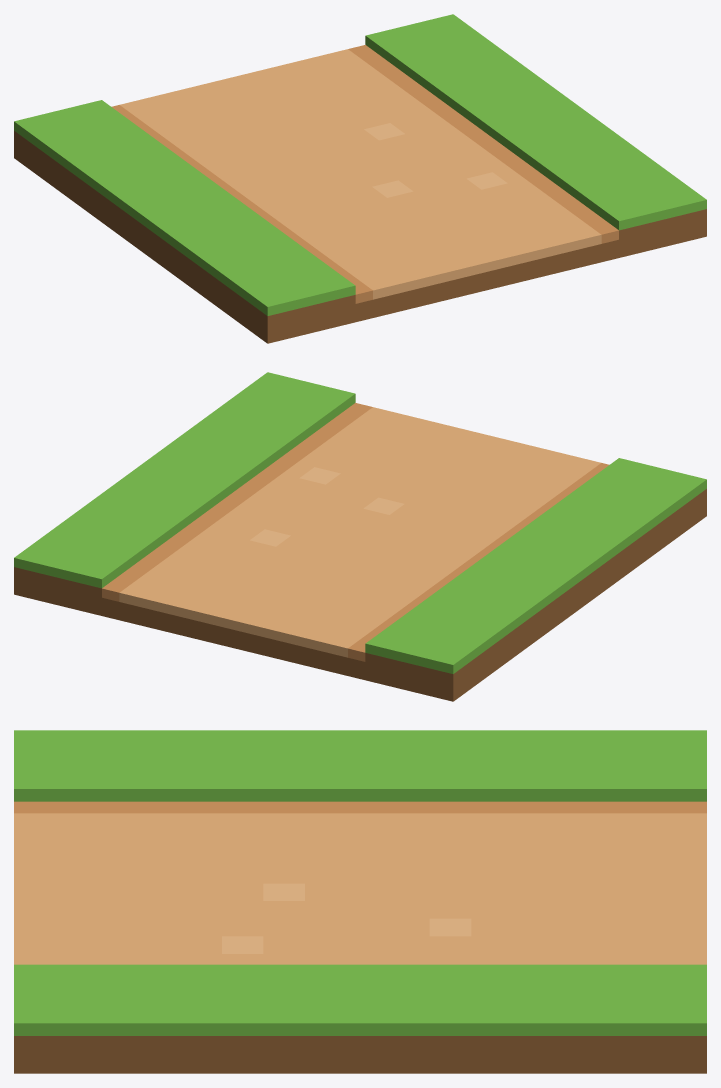
The model's file is path_straight_specks.glb.
3 views of the same model, one above another, from view 1: azimuth 30°, elevation 25°; view 2: azimuth 150°, elevation 25°; view 3: azimuth 270°, elevation 25° (orthographic). The views are drawn at different scales.
Parts seen in each view (by area): view 1: model_0; view 2: model_0; view 3: model_0.
Boxes of the visible parts, <box> form: model_0: <box>14,14,706,343</box>; model_0: <box>14,372,706,701</box>; model_0: <box>14,730,706,1073</box>.
Size of the model in its own units: 2 by 0.16 by 2.
